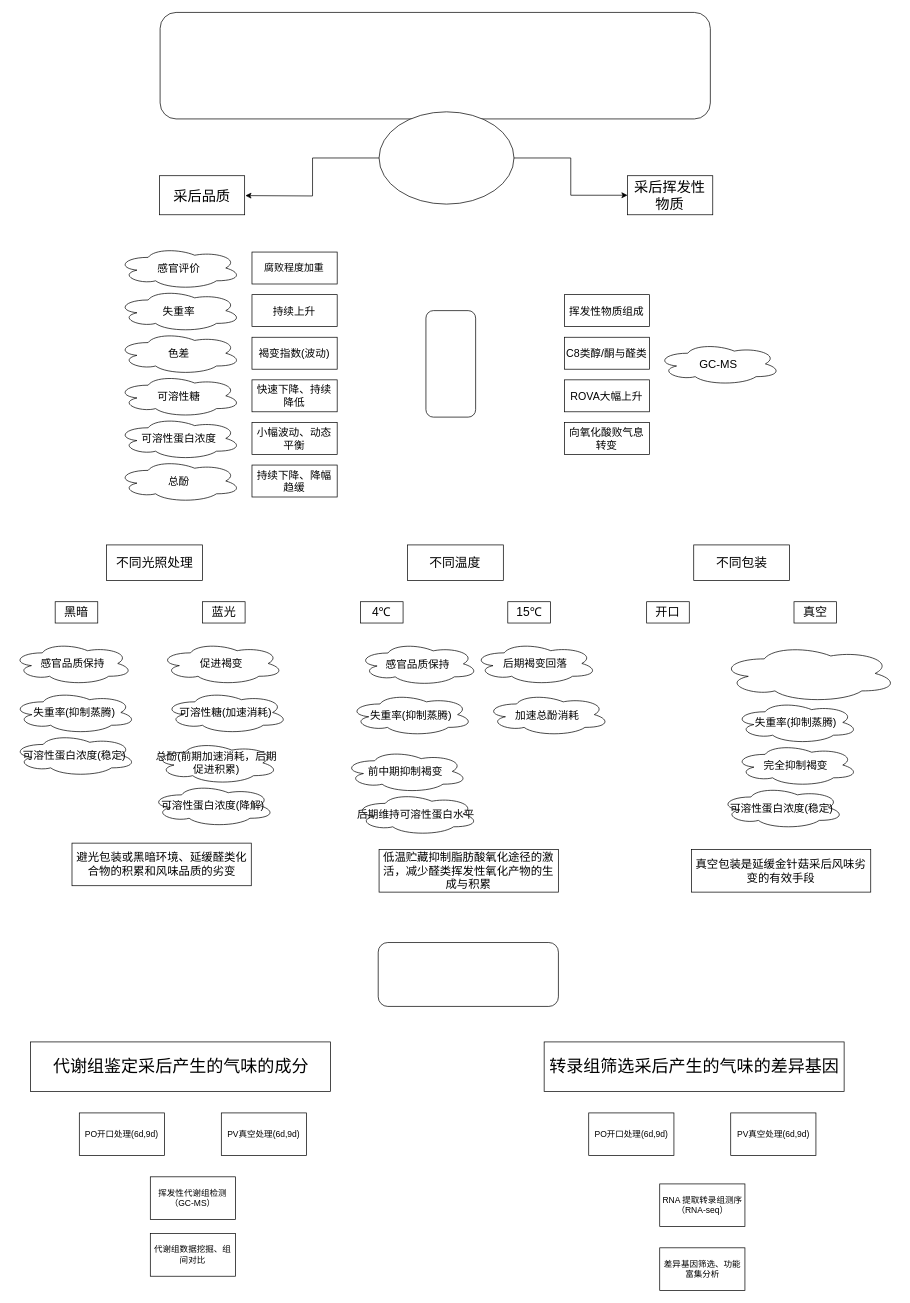
This 910x1303 diagram has some shape labels left out. The box of each missing label's shape, as (x1, y1, x2, y2) in pixels:
供试菌株 黄色菌株 WF0151: (378, 111, 514, 204)
品质劣变在外观和气味维度高度同步: (425, 310, 476, 417)
感官品质(多维度同步) ): (719, 644, 897, 703)
真空包装送测: (378, 942, 558, 1006)
金针菇采后品质与气味的变化及产生机理: (159, 12, 710, 119)
